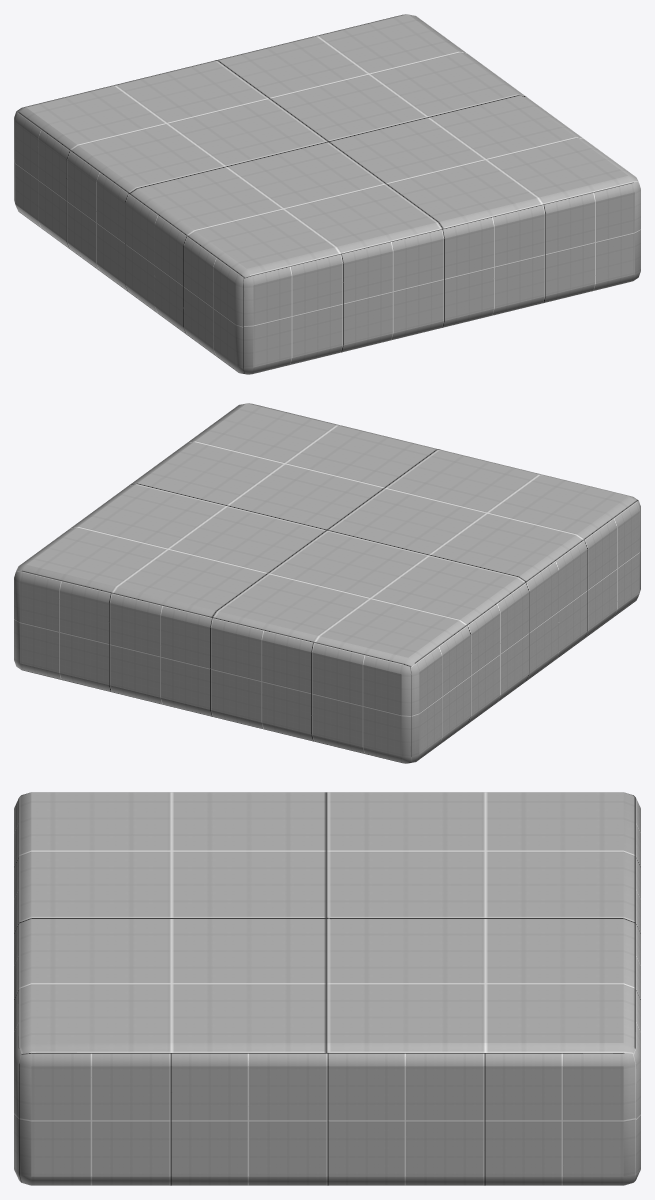
Rendered from tile_floor-sm.obj.
The picture shows the model from 3 angles, top to bottom: view 1: azimuth 30°, elevation 25°; view 2: azimuth 150°, elevation 25°; view 3: azimuth 270°, elevation 25°; orthographic projection. The views are drawn at different scales.
Parts seen in each view (by area): view 1: Cube; view 2: Cube; view 3: Cube.
Boxes of the visible parts, x1,y1,x2,y2 form: Cube: (14,14,640,374); Cube: (14,403,640,763); Cube: (14,792,640,1185).
Size of the model in its own units: 16 by 4 by 16.
Materials: 2 (2 with a texture image).
